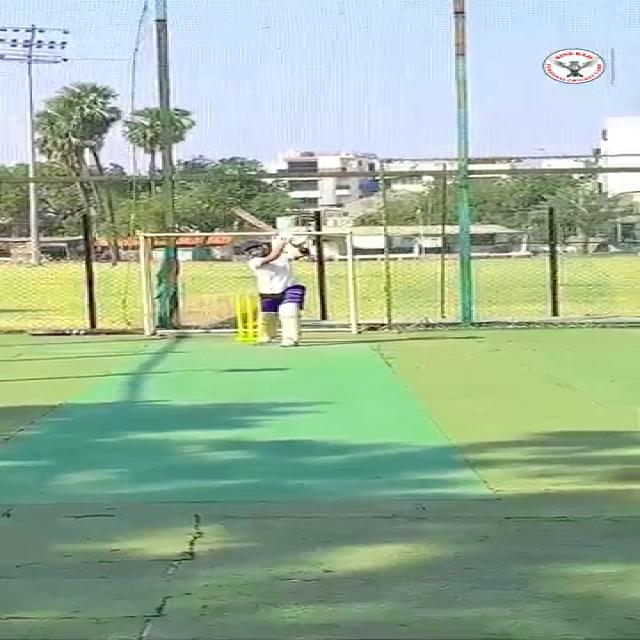batsman: (227, 203, 326, 350)
